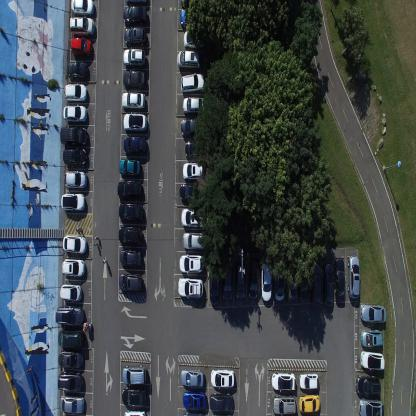car: (180, 206, 209, 228), (54, 305, 84, 326), (60, 126, 88, 148), (274, 252, 286, 300), (68, 15, 94, 37), (177, 277, 204, 298), (180, 116, 206, 137), (360, 302, 386, 323), (322, 262, 334, 307), (117, 224, 141, 246), (117, 178, 141, 200), (248, 256, 260, 300), (348, 254, 360, 298), (356, 374, 380, 396), (180, 72, 205, 93), (271, 394, 296, 415), (62, 234, 87, 255), (178, 253, 204, 273), (57, 328, 83, 348), (59, 394, 85, 414), (298, 258, 310, 301), (183, 30, 210, 49), (121, 45, 144, 67), (335, 257, 346, 303), (222, 255, 233, 301), (64, 168, 87, 190), (118, 202, 142, 223), (272, 372, 296, 393), (180, 367, 204, 388), (118, 272, 142, 293), (176, 49, 201, 69), (210, 368, 235, 388), (121, 387, 147, 406), (210, 257, 220, 306), (70, 36, 92, 58), (64, 82, 87, 103), (179, 182, 203, 202), (122, 365, 146, 385), (58, 372, 82, 392), (62, 257, 86, 277), (123, 112, 147, 132), (121, 90, 145, 110), (61, 192, 85, 212), (359, 396, 384, 415), (360, 351, 385, 370), (180, 9, 205, 28), (262, 256, 272, 302), (210, 392, 233, 412), (183, 390, 206, 410), (123, 134, 146, 154), (361, 328, 384, 348), (122, 70, 146, 89), (122, 5, 146, 24), (62, 148, 87, 166), (182, 160, 204, 180), (124, 25, 146, 45), (234, 259, 245, 299), (311, 263, 321, 307), (185, 139, 208, 158), (119, 249, 142, 268), (63, 105, 87, 123), (182, 232, 207, 249), (299, 392, 320, 412), (182, 95, 204, 114), (60, 282, 82, 301), (119, 158, 141, 177), (288, 257, 298, 298), (58, 351, 82, 368), (66, 61, 88, 79), (299, 371, 319, 389), (70, 0, 94, 15), (123, 409, 146, 415), (181, 411, 204, 415)
